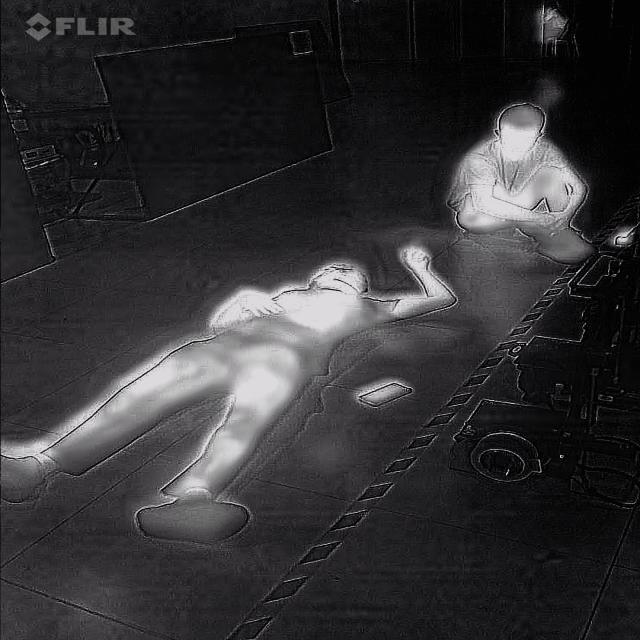Victim: (0, 238, 453, 549), (449, 94, 600, 268)
